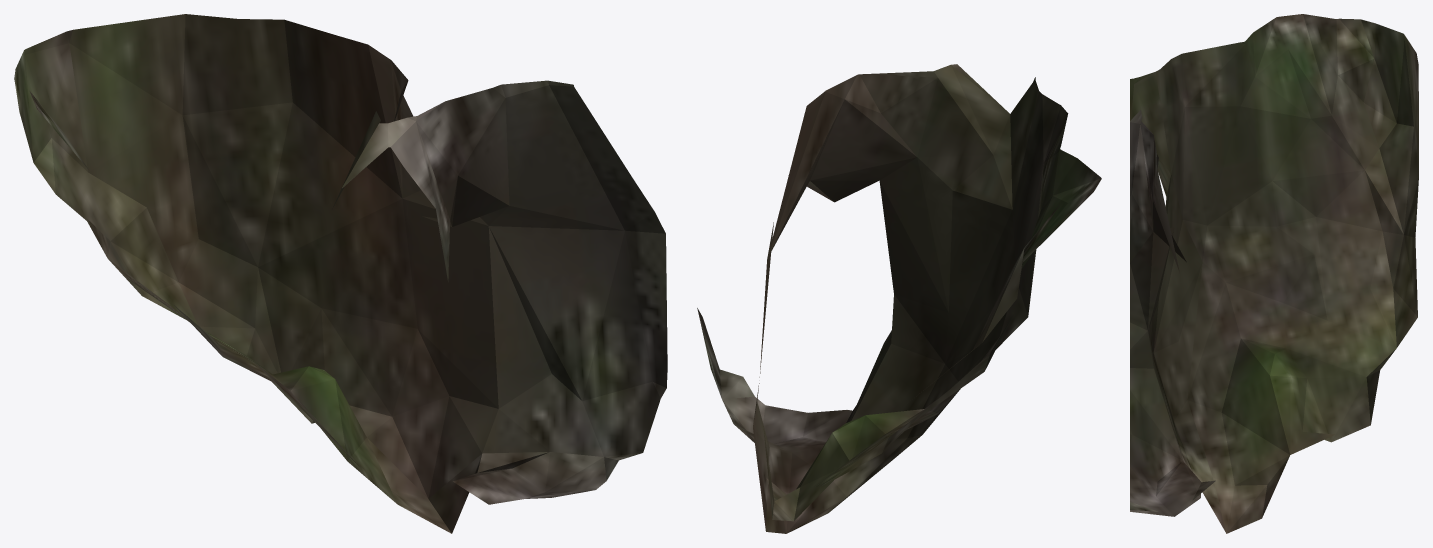
3 renders of one model, left to right at view 1: azimuth 30°, elevation 25°; view 2: azimuth 150°, elevation 25°; view 3: azimuth 270°, elevation 25°, orthographic. The views are drawn at different scales.
Bounding box in the file's own units: 2.25 × 1.98 × 1.37.
1 material, 1 textured.
